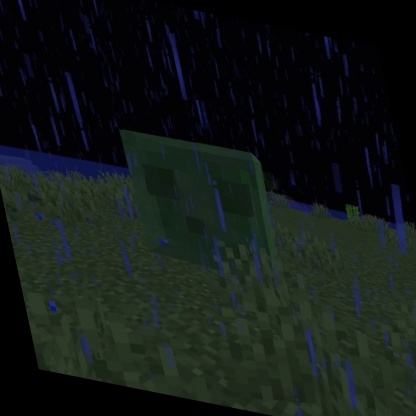slime: (110, 119, 293, 288)
